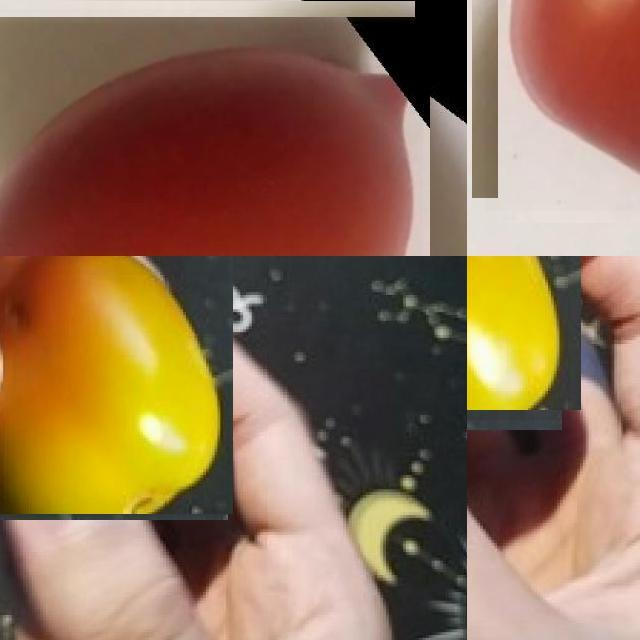Fresh Tomato: (0, 8, 422, 256), (485, 0, 640, 210)
Rotten Tomato: (0, 256, 230, 517), (467, 256, 571, 420)
